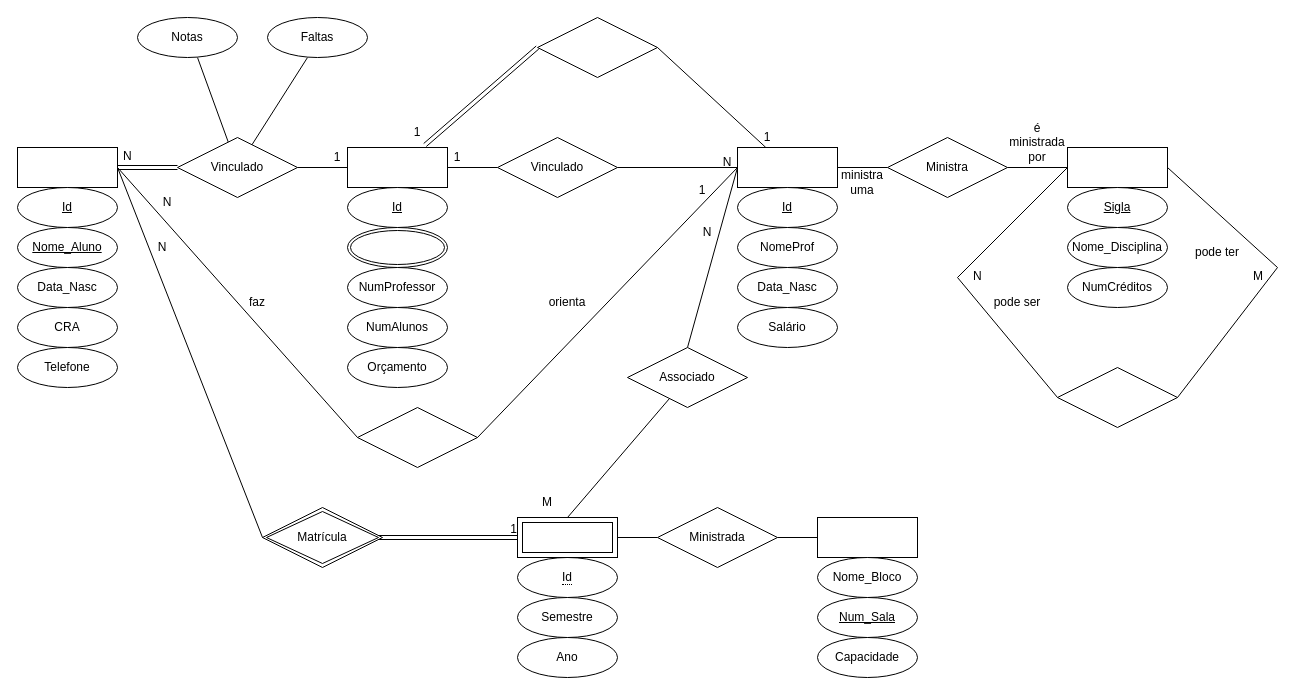
The diagram is 1296 pixels wide and 695 high, and some of its shapes have lost their labels. Each missing label, with the box of its shape:
Aluno: (16, 146, 118, 188)
Bloco: (346, 226, 448, 268)
Diretor: (536, 16, 658, 78)
Disciplina: (1066, 146, 1168, 188)
Faculdade: (346, 146, 448, 188)
Iniciação Cientifica: (356, 406, 478, 468)
Professor: (736, 146, 838, 188)
Pré-requisito: (1056, 366, 1178, 428)
Salas: (816, 516, 918, 558)
Turma: (516, 516, 618, 558)
